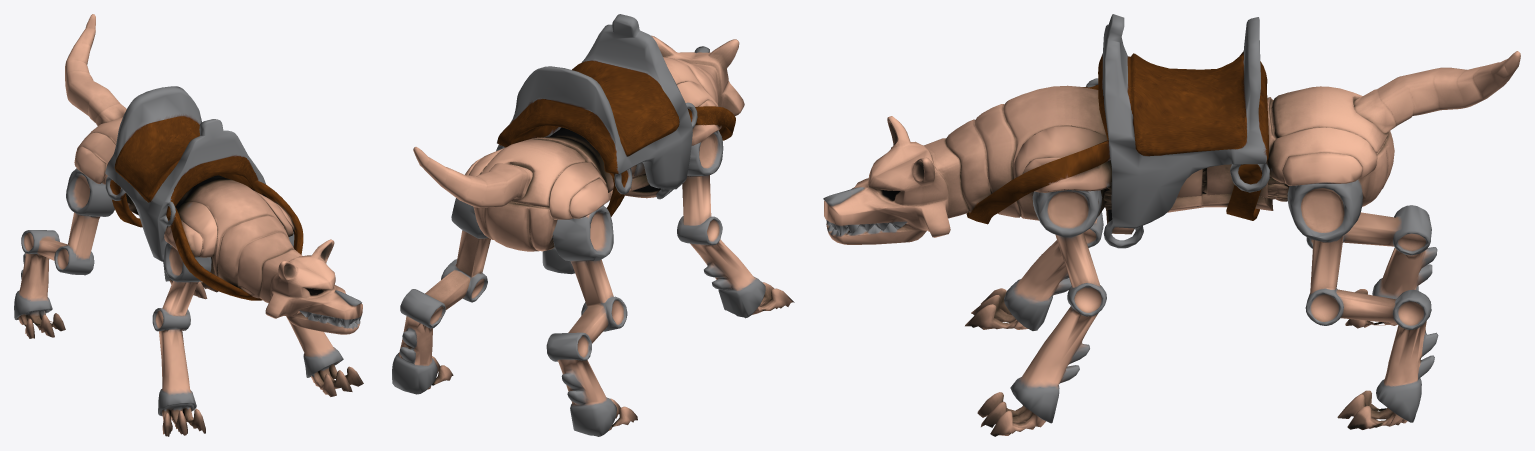
File: MZ4250 - Clockwork Dire Wolf -Copper.glb
The picture shows the model from 3 angles, left to right: view 1: azimuth 30°, elevation 25°; view 2: azimuth 150°, elevation 25°; view 3: azimuth 270°, elevation 25°; orthographic projection. The views are drawn at different scales.
Parts seen in each view (by area): view 1: Clockwork Dire Wolf_low.002; view 2: Clockwork Dire Wolf_low.002; view 3: Clockwork Dire Wolf_low.002.
Part boxes in pixels (box(x1,y1,x2,y2)): Clockwork Dire Wolf_low.002: box(14, 14, 363, 436); Clockwork Dire Wolf_low.002: box(392, 14, 794, 436); Clockwork Dire Wolf_low.002: box(823, 14, 1520, 436).
Size of the model in its own units: 0.6041 by 0.7365 by 1.33.
1 material, 1 textured.
